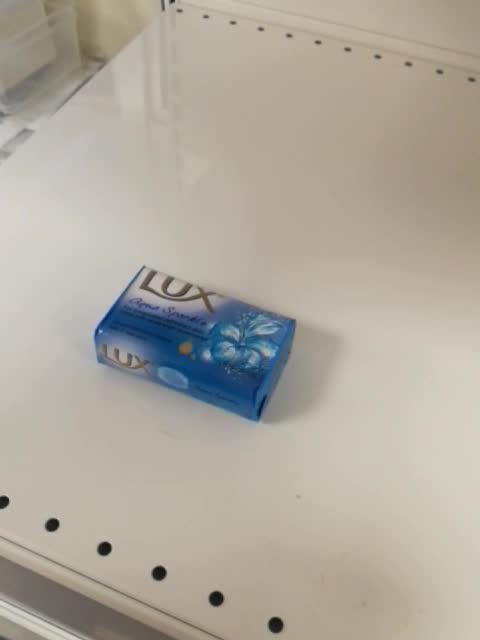soap: (92, 265, 299, 425)
